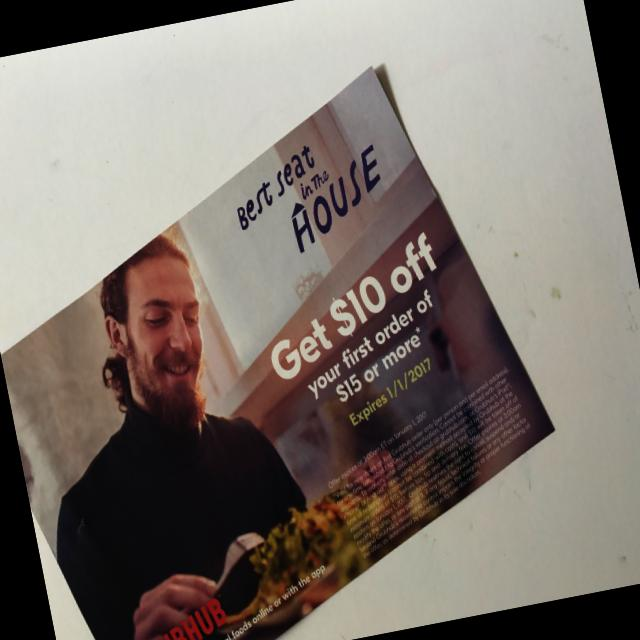Paper: (0, 41, 588, 640)
